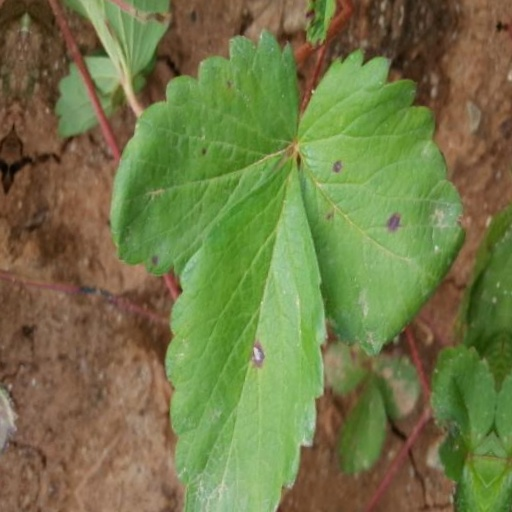Leaf Spot: (177, 151, 340, 511), (283, 38, 461, 342), (105, 28, 283, 290), (334, 331, 384, 384)
